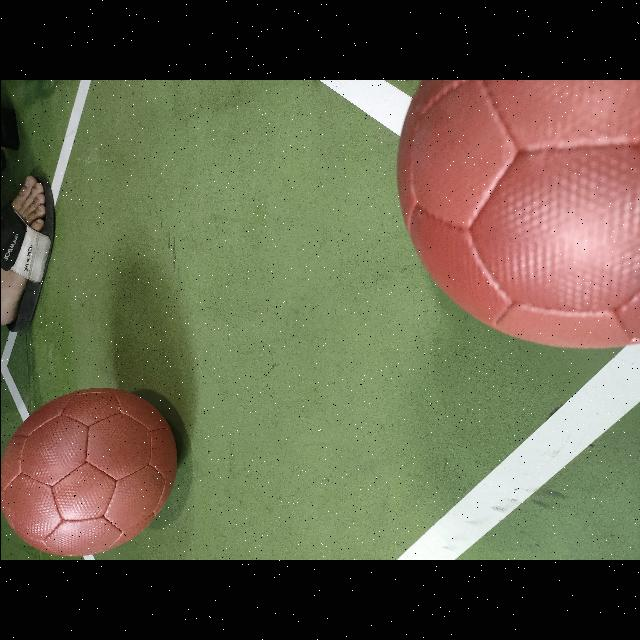R: (396, 81, 640, 351), (1, 388, 178, 556)
